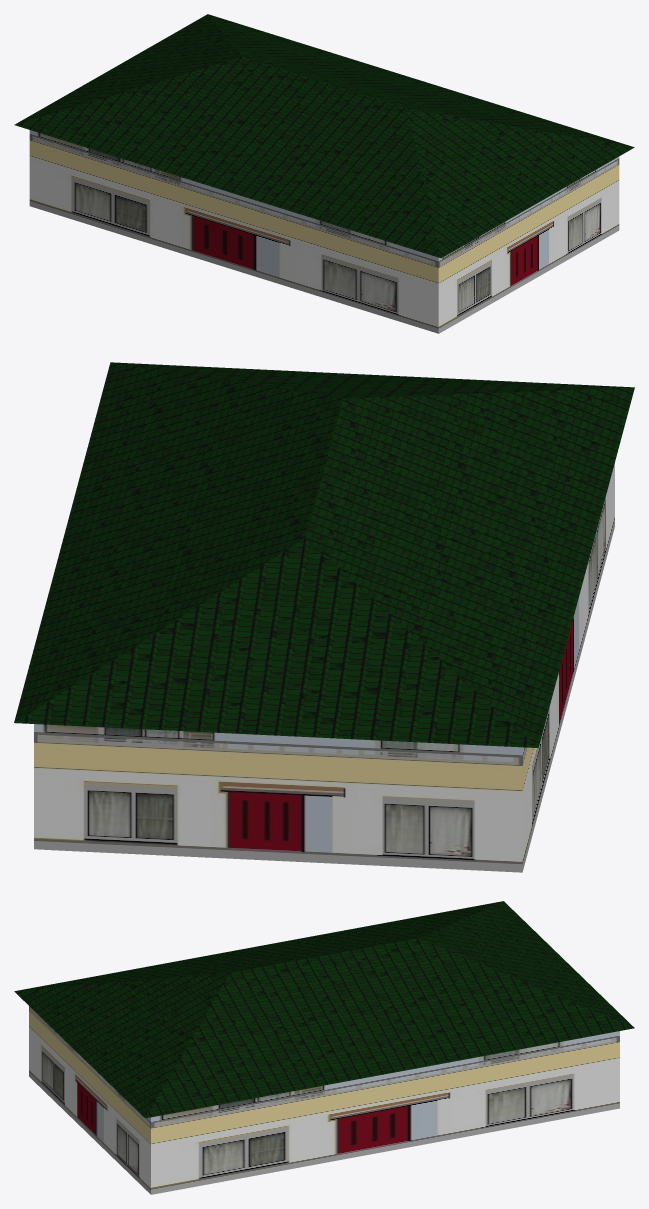
3 renders of one model, top to bottom at view 1: azimuth 30°, elevation 25°; view 2: azimuth 150°, elevation 25°; view 3: azimuth 270°, elevation 25°, orthographic. The views are drawn at different scales.
Visible parts, largest first — view 1: CityEngineMaterial_13_m, CityEngineMaterial_15_m; view 2: CityEngineMaterial_13_m, CityEngineMaterial_15_m; view 3: CityEngineMaterial_13_m, CityEngineMaterial_15_m.
Part boxes in pixels (x1=…): CityEngineMaterial_13_m: x1=14, y1=14, x2=634, y2=257; CityEngineMaterial_15_m: x1=29, y1=130, x2=619, y2=333; CityEngineMaterial_13_m: x1=14, y1=362, x2=634, y2=747; CityEngineMaterial_15_m: x1=34, y1=463, x2=614, y2=872; CityEngineMaterial_13_m: x1=14, y1=901, x2=634, y2=1118; CityEngineMaterial_15_m: x1=29, y1=1006, x2=619, y2=1194.
Size of the model in its own units: 42.82 by 12.57 by 51.68.
